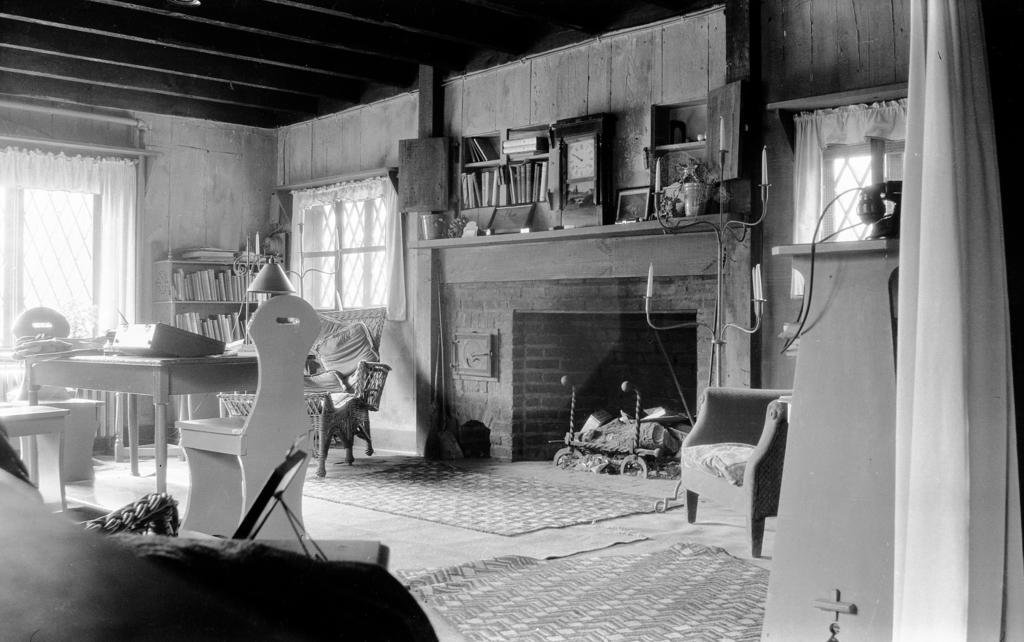Chair: (679, 385, 792, 558)
